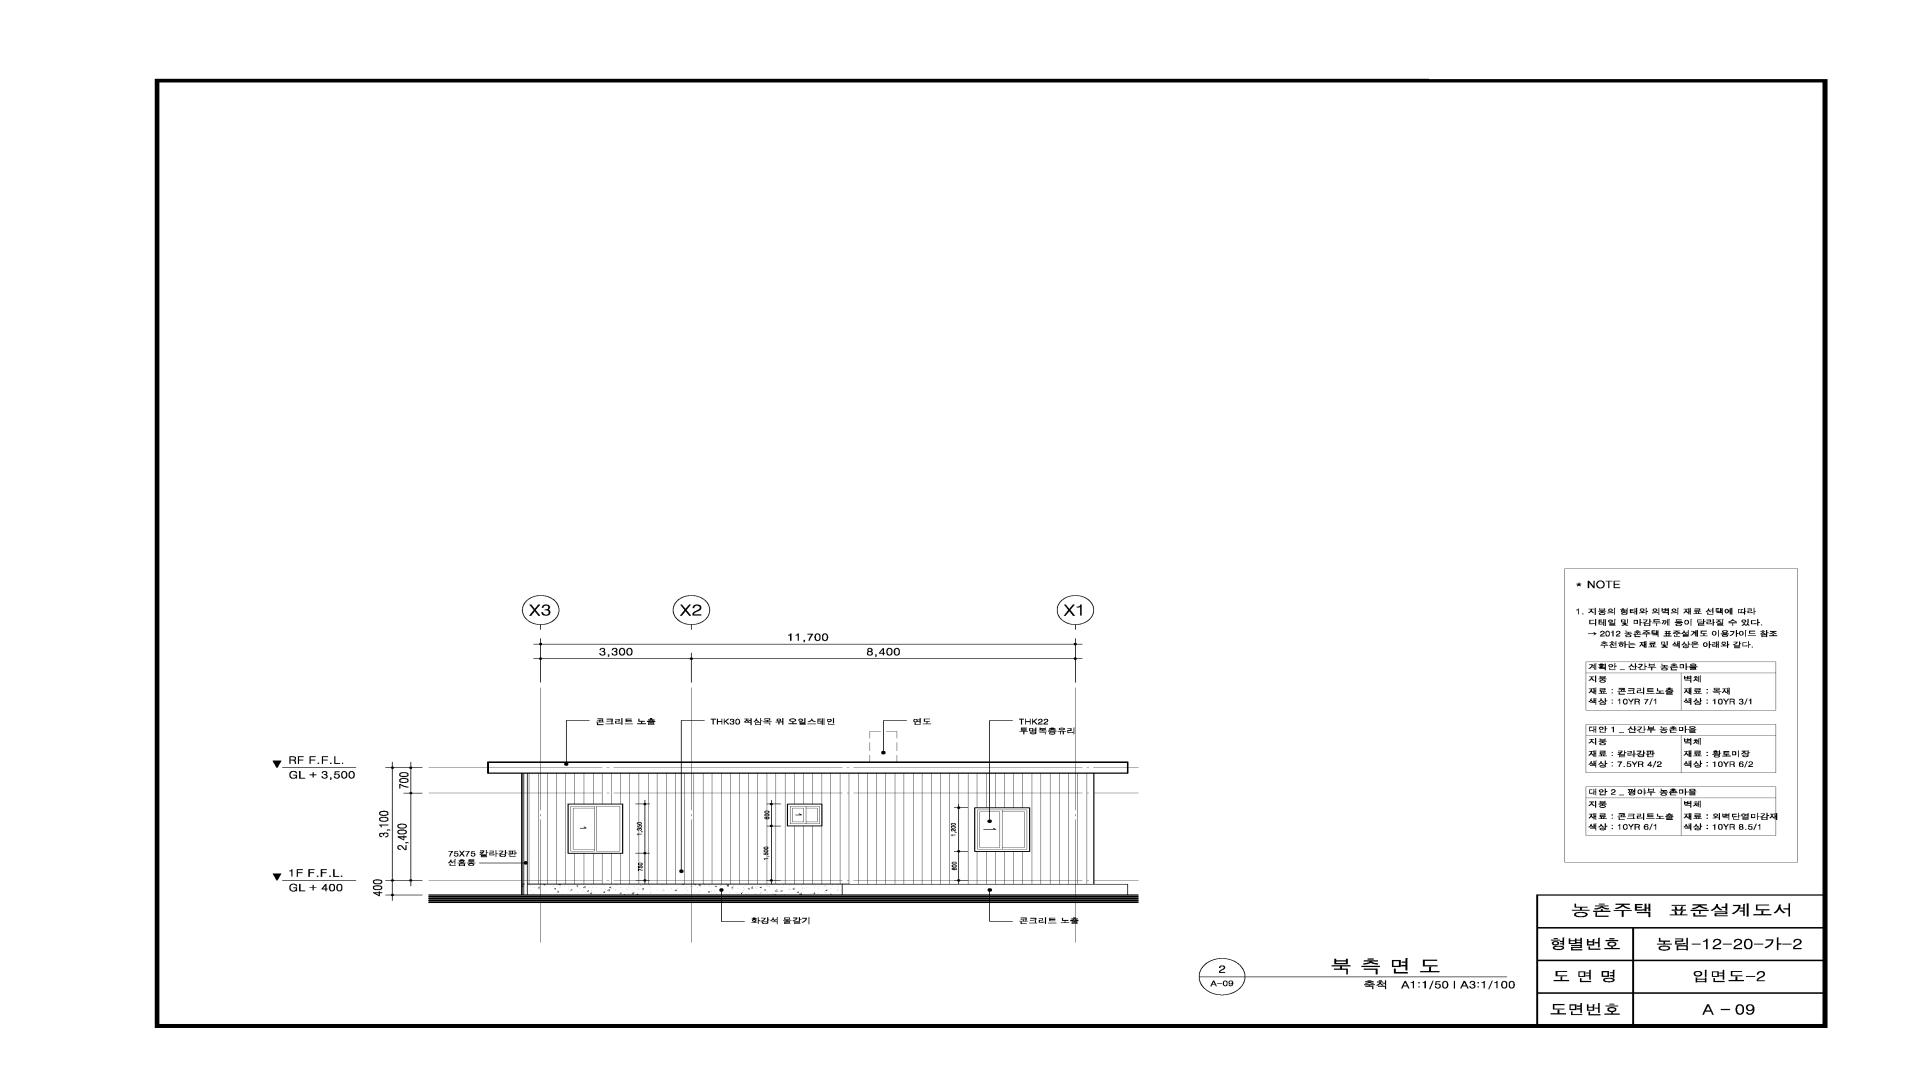wall: (487, 761, 1129, 894)
window: (567, 803, 624, 855), (975, 807, 1030, 852), (787, 804, 823, 827)
